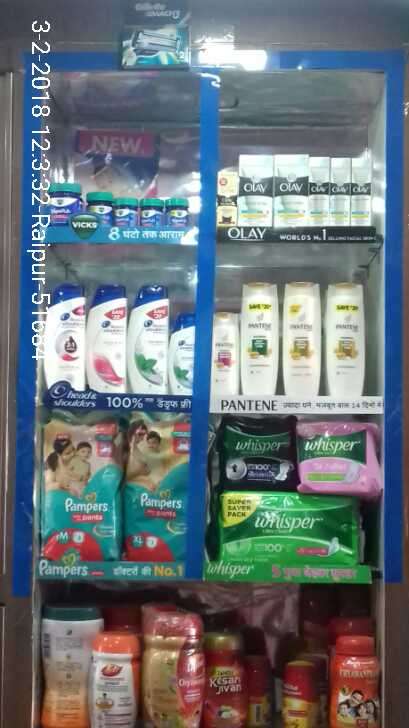beauty: (321, 276, 368, 397), (309, 148, 376, 229), (280, 279, 324, 395), (125, 283, 169, 395), (85, 284, 129, 392), (39, 292, 85, 395), (238, 280, 279, 394), (165, 308, 202, 395), (236, 151, 276, 229), (207, 307, 238, 401), (273, 149, 309, 227), (214, 171, 238, 227)
pharmacy: (206, 489, 371, 572), (37, 416, 124, 559), (124, 412, 201, 563), (294, 419, 382, 500), (214, 413, 302, 492), (49, 174, 86, 219), (81, 194, 116, 225), (111, 196, 140, 227), (163, 195, 187, 226), (139, 198, 163, 226)
